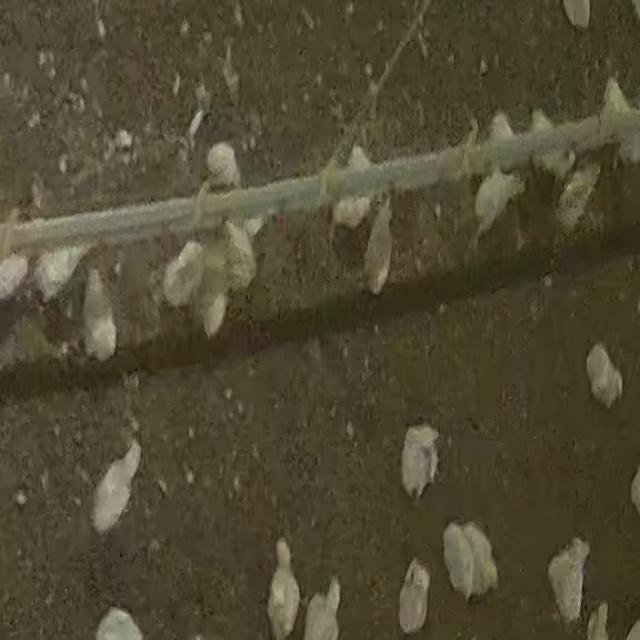chicken: (91, 441, 140, 532), (546, 538, 596, 620), (461, 178, 529, 238), (263, 536, 302, 640), (361, 203, 401, 304), (33, 242, 98, 302), (551, 168, 602, 241), (223, 217, 272, 290), (328, 146, 372, 227), (581, 337, 627, 412), (603, 80, 639, 175), (157, 240, 205, 311), (398, 422, 441, 501), (393, 555, 435, 634), (440, 520, 474, 599), (306, 574, 346, 640), (198, 253, 230, 333), (89, 268, 116, 362), (198, 137, 246, 189), (464, 526, 501, 591), (95, 600, 149, 640), (0, 254, 28, 302)
